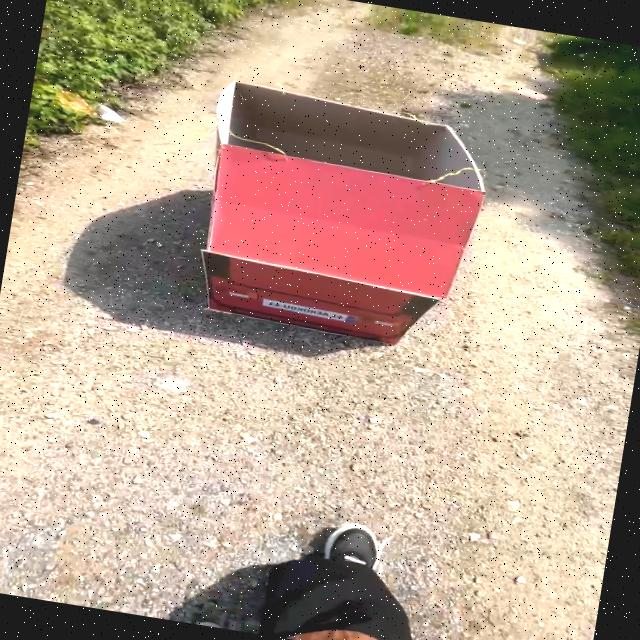red_car: (124, 34, 546, 391)
